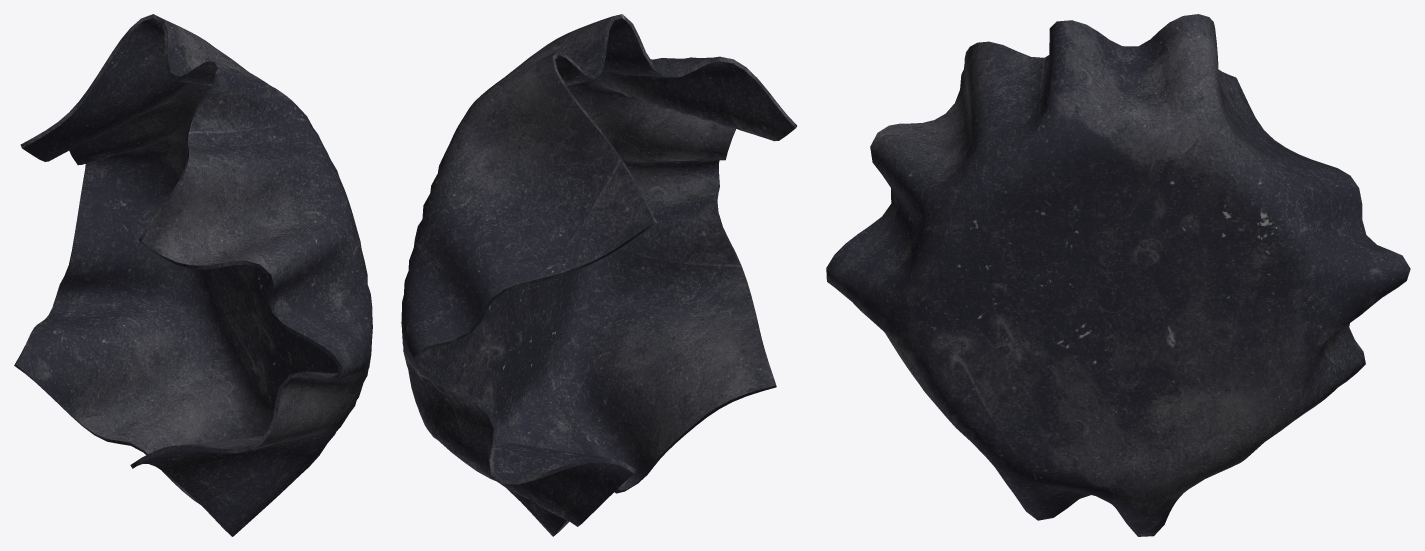
File: SM_Stool_Cloth.fbx
3 renders of one model, left to right at view 1: azimuth 30°, elevation 25°; view 2: azimuth 150°, elevation 25°; view 3: azimuth 270°, elevation 25°, orthographic. The views are drawn at different scales.
Visible parts, largest first — view 1: SM_Stool_Cloth_LOD0; view 2: SM_Stool_Cloth_LOD0; view 3: SM_Stool_Cloth_LOD0.
Part boxes in pixels (left/top/right/bottom): SM_Stool_Cloth_LOD0: left=14, top=14, right=372, bottom=536; SM_Stool_Cloth_LOD0: left=401, top=14, right=796, bottom=536; SM_Stool_Cloth_LOD0: left=826, top=14, right=1410, bottom=536.
Size of the model in its own units: 24.92 by 54.57 by 52.75.
Materials: 1 (1 with a texture image).
